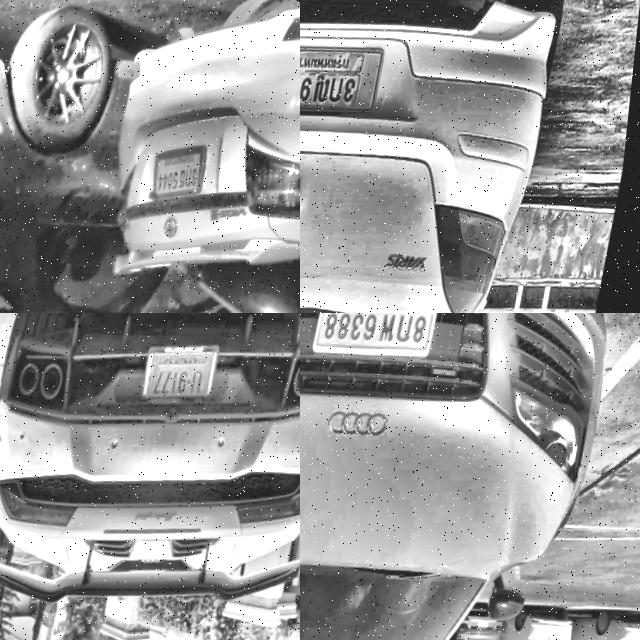license-plate: (300, 34, 393, 132), (310, 313, 449, 371), (143, 350, 220, 410), (151, 148, 217, 211), (485, 623, 500, 639)
